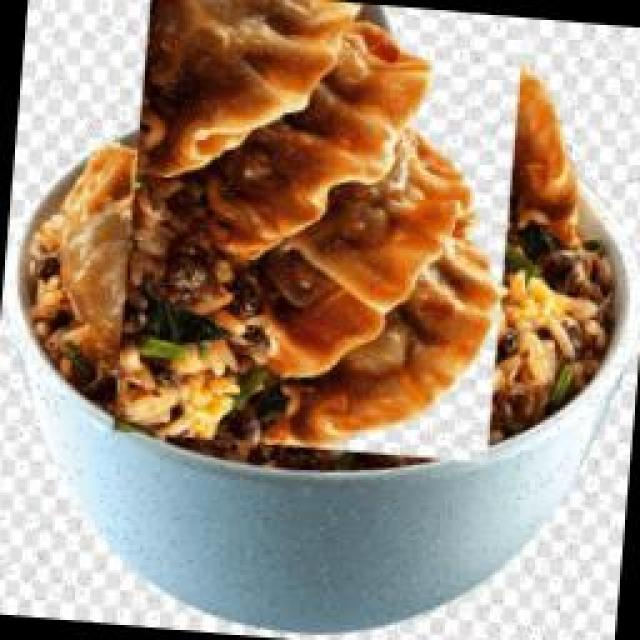fried_dumplings: (80, 0, 563, 428)
